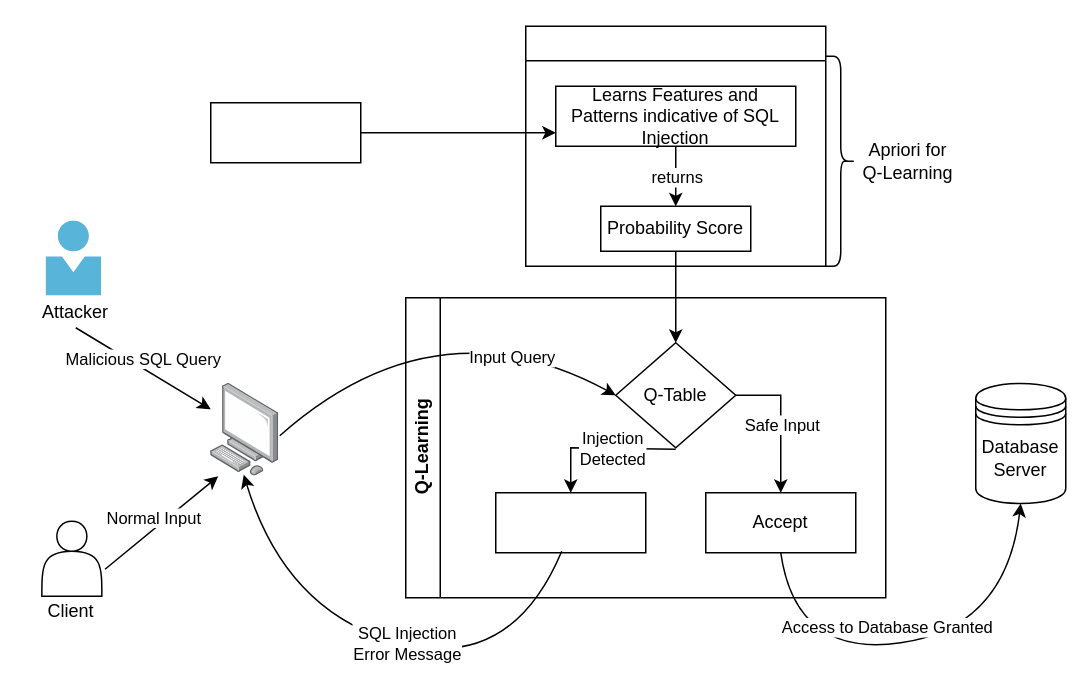
The diagram is 1092 pixels wide and 690 high, and some of its shapes have lost their labels. Each missing label, with the box of its shape:
CNN Model: (524, 25, 826, 266)
Query Dataset: (209, 101, 361, 163)
Reject: (494, 491, 646, 553)
